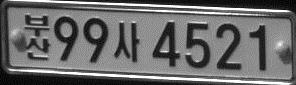1: (247, 24, 273, 71)
2: (215, 22, 241, 70)
4: (151, 21, 180, 67)
5: (183, 22, 210, 68)
9: (82, 17, 108, 63), (52, 15, 78, 60)
부산_V: (24, 13, 50, 61)
사: (112, 21, 140, 63)
